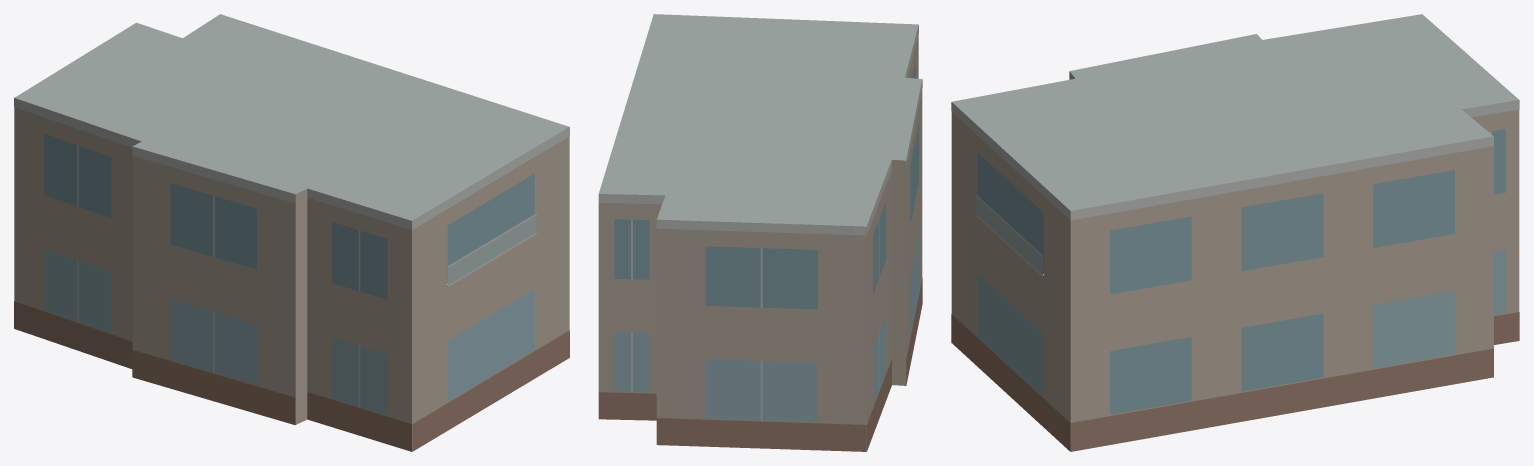
File: survey-upis-32732460.glb
3 views of the same model, side by side, from view 1: azimuth 30°, elevation 25°; view 2: azimuth 150°, elevation 25°; view 3: azimuth 270°, elevation 25° (orthographic). The views are drawn at different scales.
Parts seen in each view (by area): view 1: survey-upis-32732460.tmp; view 2: survey-upis-32732460.tmp; view 3: survey-upis-32732460.tmp.
Boxes of the visible parts, x1=… form: survey-upis-32732460.tmp: x1=14, y1=14, x2=569, y2=451; survey-upis-32732460.tmp: x1=598, y1=14, x2=922, y2=451; survey-upis-32732460.tmp: x1=951, y1=14, x2=1519, y2=451.
Size of the model in its own units: 10.71 by 6.1 by 13.05.
